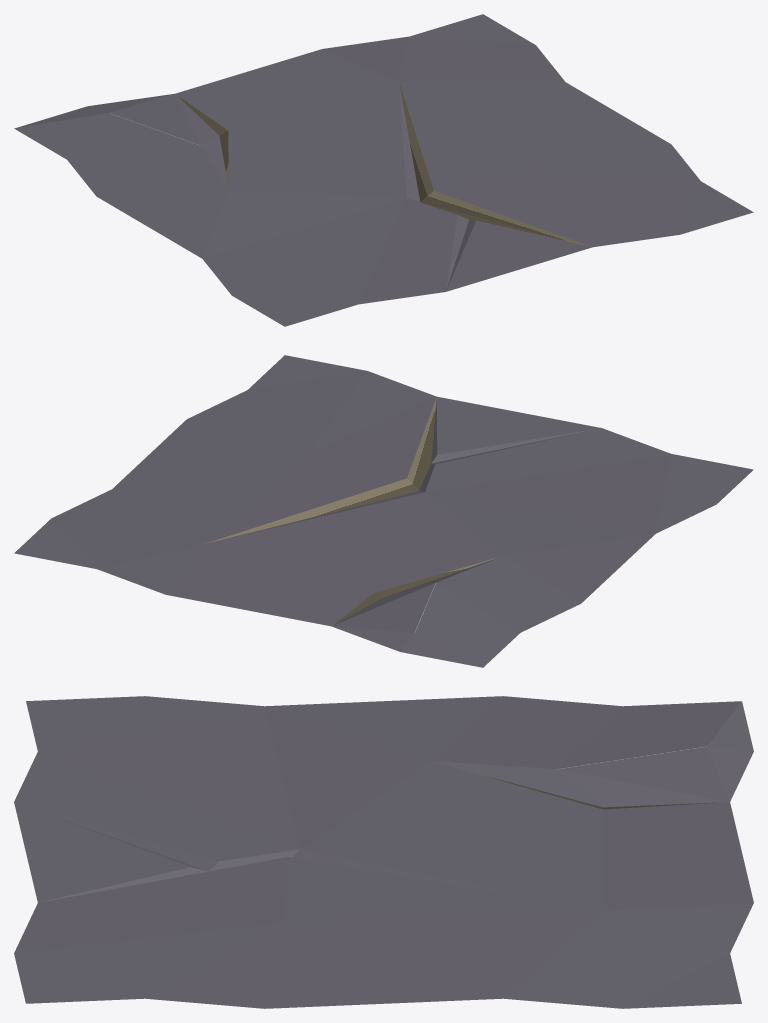
The model's file is Floor_05.fbx.
3 views of the same model, one above another, from view 1: azimuth 30°, elevation 25°; view 2: azimuth 150°, elevation 25°; view 3: azimuth 270°, elevation 25° (orthographic). The views are drawn at different scales.
Parts seen in each view (by area): view 1: Floor_05; view 2: Floor_05; view 3: Floor_05.
Boxes of the visible parts, x1,y1,x2,y2 form: Floor_05: (14, 14, 753, 326); Floor_05: (14, 355, 753, 667); Floor_05: (14, 696, 753, 1008).
Bounding box in the file's own units: 103 × 2.31 × 103.
1 material, 1 textured.
